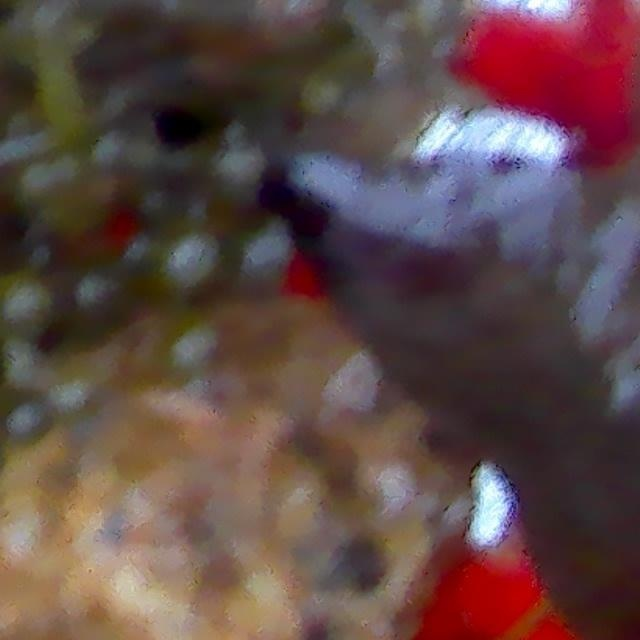SeaGrape: (67, 268, 135, 331), (160, 235, 228, 298), (0, 283, 54, 343)
